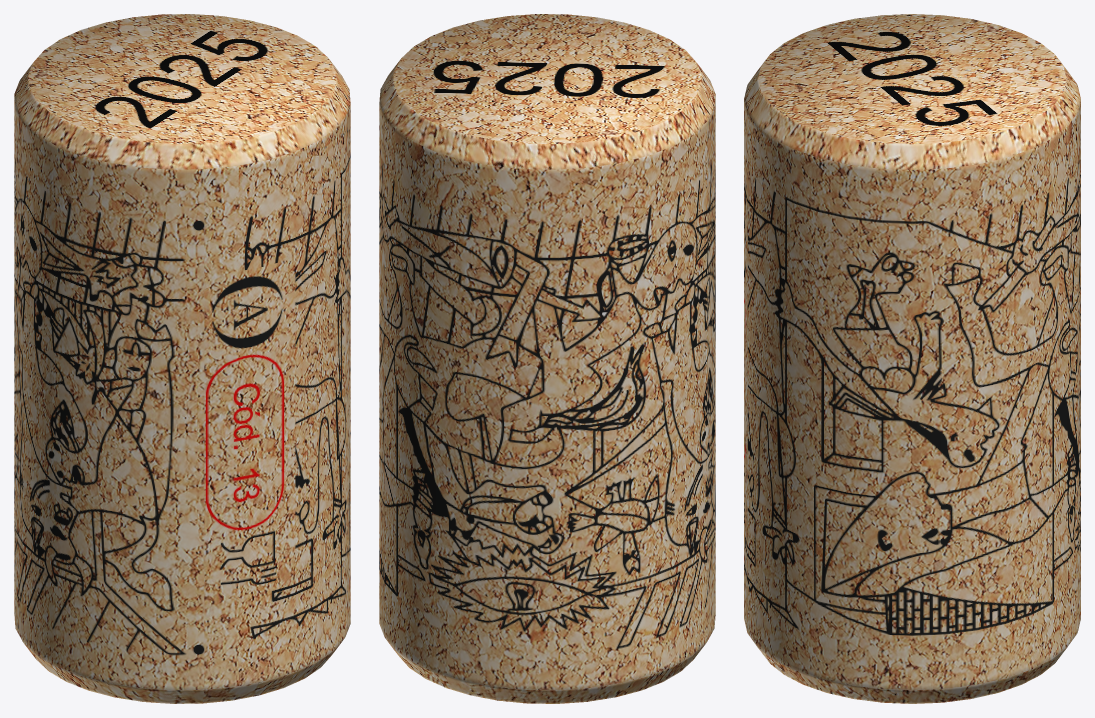
Rendered from neut 44x24.glb.
3 views of the same model, side by side, from view 1: azimuth 30°, elevation 25°; view 2: azimuth 150°, elevation 25°; view 3: azimuth 270°, elevation 25° (orthographic).
Parts seen in each view (by area): view 1: Cylinder; view 2: Cylinder; view 3: Cylinder.
Boxes of the visible parts, x1=… form: Cylinder: x1=14, y1=14, x2=350, y2=703; Cylinder: x1=379, y1=14, x2=715, y2=703; Cylinder: x1=744, y1=14, x2=1080, y2=703.
Size of what is drawn, in the model's own units: 0.24 by 0.44 by 0.24.
1 material, 1 textured.
